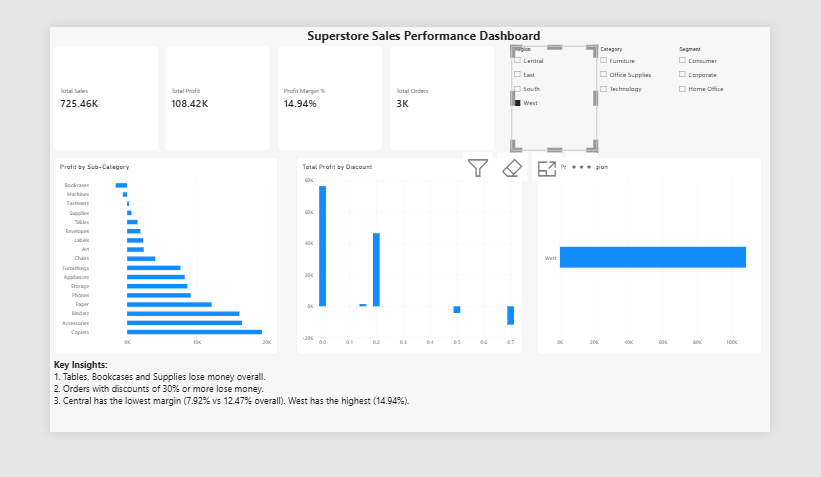

The dashboard page shown, as its layout file describes it:
{"tool":"powerbi","page":{"name":"Page 1","canvas":[1920,1080],"ordinal":0},"visuals":[{"type":"cardVisual","fields":{"Data":["SampleSuperstore.Total Sales"]},"box":[10,51.4,280,280],"z":0},{"type":"cardVisual","fields":{"Data":["SampleSuperstore.Total Profit"]},"box":[305.7,51.4,280,280],"z":1000},{"type":"cardVisual","fields":{"Data":["SampleSuperstore.Profit Margin %"]},"box":[607.1,51.4,280,280],"z":2000},{"type":"cardVisual","fields":{"Data":["SampleSuperstore.Total Orders"]},"box":[905.7,51.4,279.9,279.9],"z":3000},{"type":"barChart","title":"Profit by Sub-Category","fields":{"Category":["SampleSuperstore.Sub-Category"],"Y":["SampleSuperstore.Total Profit"]},"box":[10,346.7,596.7,526.7],"z":4000},{"type":"clusteredColumnChart","title":"Total Profit by Discount","fields":{"Category":["SampleSuperstore.Discount"],"Y":["SampleSuperstore.Total Profit"]},"box":[656.7,346.7,603.3,526.7],"z":5000},{"type":"slicer","fields":{"Values":["SampleSuperstore.Region"]},"box":[1228.6,51.4,232,280],"z":6000},{"type":"slicer","fields":{"Values":["SampleSuperstore.Category"]},"box":[1460,51.4,208,280],"z":7000},{"type":"slicer","fields":{"Values":["SampleSuperstore.Segment"]},"box":[1668.6,51.4,196,280],"z":8000},{"type":"barChart","title":"Total Profit by Region","fields":{"Category":["SampleSuperstore.Region"],"Y":["SampleSuperstore.Total Profit"]},"box":[1300,346.7,596.7,526.7],"z":9000},{"type":"textbox","box":[686.7,0,876.7,50],"z":10000},{"type":"textbox","box":[10,883.3,1910,196.7],"z":10001}]}

Visuals, with their boxes on the page's 1920x1080 design canvas (x1, y1, x2, y2). These are canvas units, not pixel positions in the 821x477 screenshot, which may show the page scaled, cropped or inside an application window:
cardVisual - SampleSuperstore.Total Sales: left=10, top=51, right=290, bottom=331
cardVisual - SampleSuperstore.Total Profit: left=306, top=51, right=586, bottom=331
cardVisual - SampleSuperstore.Profit Margin %: left=607, top=51, right=887, bottom=331
cardVisual - SampleSuperstore.Total Orders: left=906, top=51, right=1186, bottom=331
"Profit by Sub-Category" barChart: left=10, top=347, right=607, bottom=873
"Total Profit by Discount" clusteredColumnChart: left=657, top=347, right=1260, bottom=873
slicer - SampleSuperstore.Region: left=1229, top=51, right=1461, bottom=331
slicer - SampleSuperstore.Category: left=1460, top=51, right=1668, bottom=331
slicer - SampleSuperstore.Segment: left=1669, top=51, right=1865, bottom=331
"Total Profit by Region" barChart: left=1300, top=347, right=1897, bottom=873
textbox: left=687, top=0, right=1563, bottom=50
textbox: left=10, top=883, right=1920, bottom=1080
